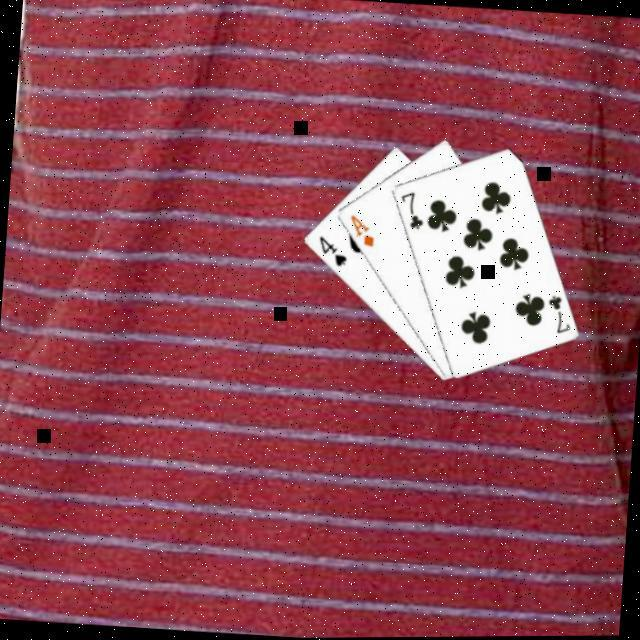4S: (312, 230, 349, 267)
7C: (394, 186, 427, 231), (540, 290, 573, 335)
AD: (342, 210, 376, 248)
